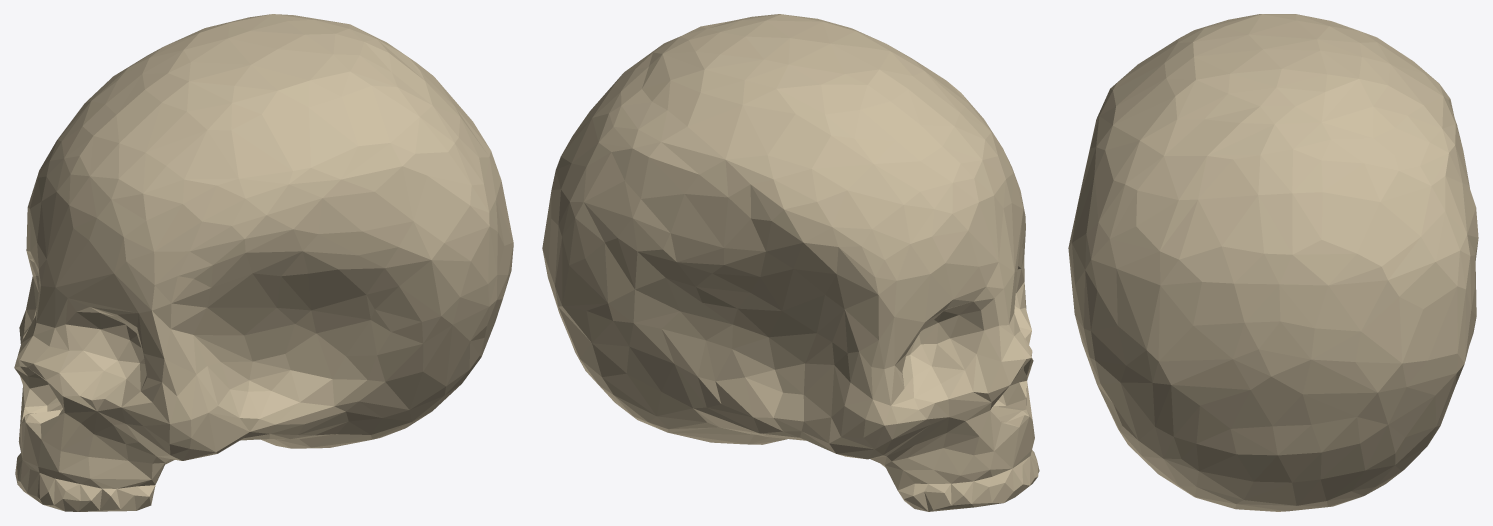
File: skull_2.fbx
3 views of the same model, side by side, from view 1: azimuth 30°, elevation 25°; view 2: azimuth 150°, elevation 25°; view 3: azimuth 270°, elevation 25° (orthographic). The views are drawn at different scales.
Parts seen in each view (by area): view 1: Skull2; view 2: Skull2; view 3: Skull2.
Part boxes in pixels (<box>): Skull2: <box>14,14,513,511</box>; Skull2: <box>542,14,1039,511</box>; Skull2: <box>1068,14,1478,511</box>.
Size of the model in its own units: 14.01 by 11.85 by 10.38.
